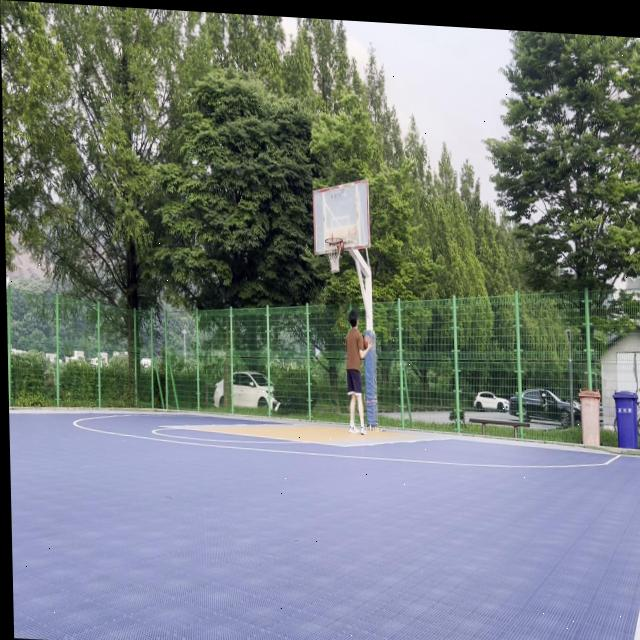basketball: (363, 334, 372, 350)
hoop: (324, 236, 343, 275)
